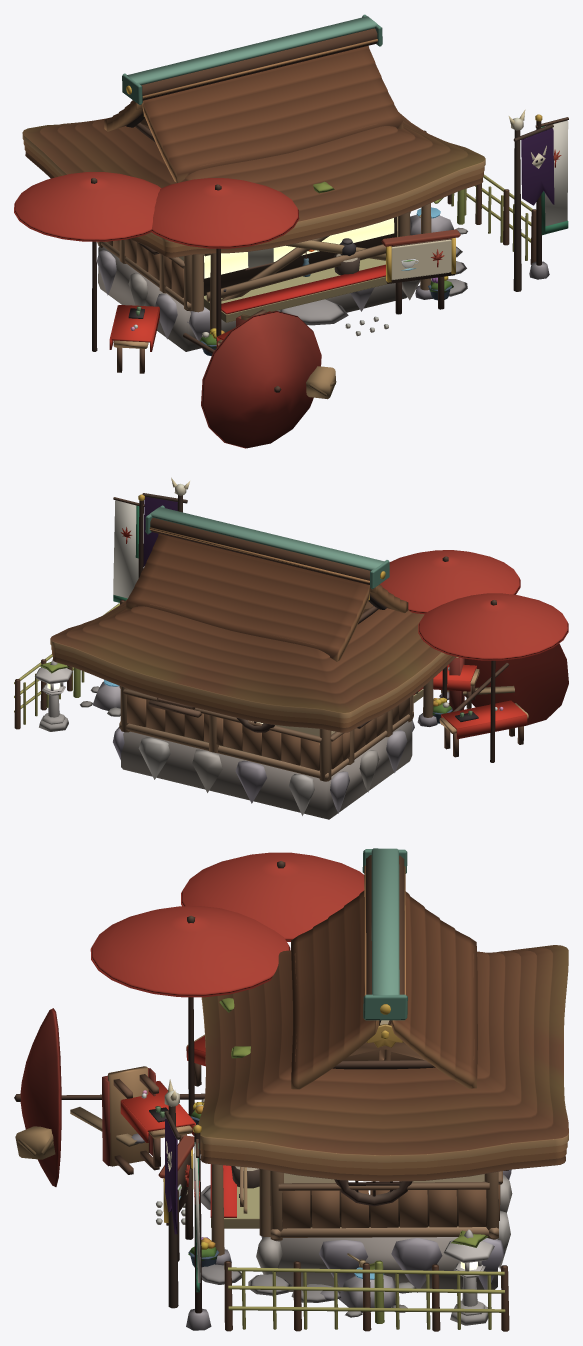
The model's file is zv-maple-teaHouse.glb.
The picture shows the model from 3 angles, top to bottom: view 1: azimuth 30°, elevation 25°; view 2: azimuth 150°, elevation 25°; view 3: azimuth 270°, elevation 25°; orthographic projection. The views are drawn at different scales.
Visible parts, largest first — view 1: teaHouse, saved, siege, window_glow; view 2: teaHouse, saved, siege; view 3: teaHouse, saved, siege.
Boxes of the visible parts, x1,y1,x2,y2 form: teaHouse: (22,14,536,351); saved: (14,114,568,373); siege: (183,109,554,448); window_glow: (204,218,394,278); teaHouse: (14,505,455,819); saved: (113,494,568,762); siege: (142,477,568,725); teaHouse: (158,848,568,1331); saved: (90,852,364,1330); siege: (14,1008,247,1308).
Size of the model in its own units: 7.26 by 3.65 by 5.52.
